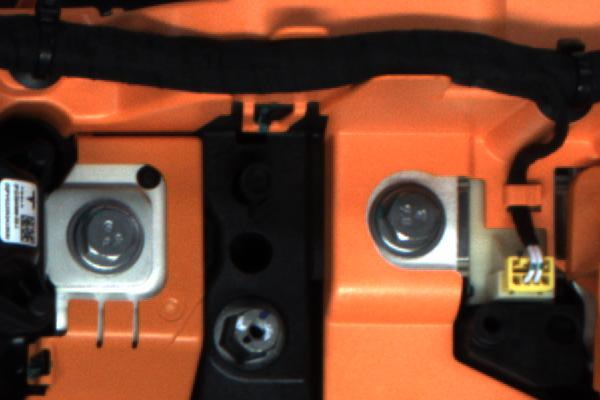nut_b: (358, 171, 455, 263), (67, 192, 149, 283)
